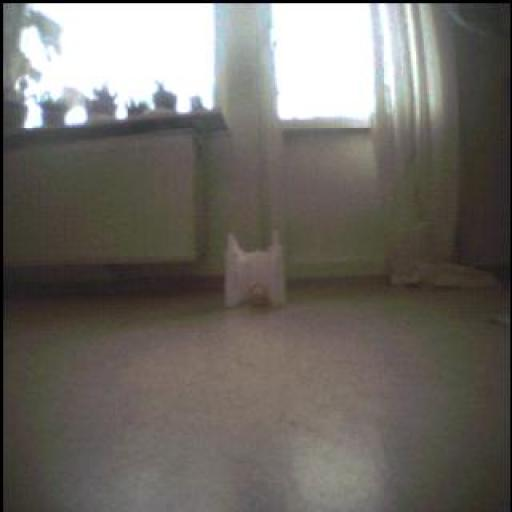Basket: (249, 283, 274, 311)
